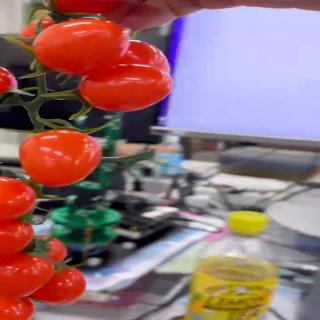tomato: (34, 21, 127, 77), (62, 38, 178, 82), (19, 130, 103, 186), (79, 64, 176, 111), (0, 252, 54, 301), (26, 265, 88, 304), (0, 174, 37, 222), (13, 235, 69, 265), (0, 217, 33, 260), (18, 17, 56, 48), (0, 294, 35, 320), (0, 64, 18, 100)
